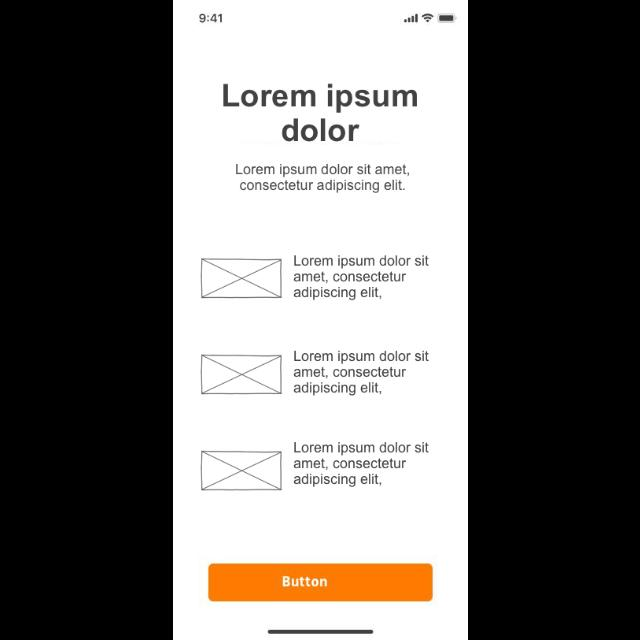image: (200, 259, 282, 299), (200, 355, 282, 395), (200, 451, 282, 491)
text: (223, 84, 417, 142), (293, 253, 429, 300), (293, 350, 429, 396), (293, 442, 429, 488), (235, 164, 409, 194)
textbutton: (208, 564, 432, 602)
uppertaskbar: (198, 13, 458, 24)
